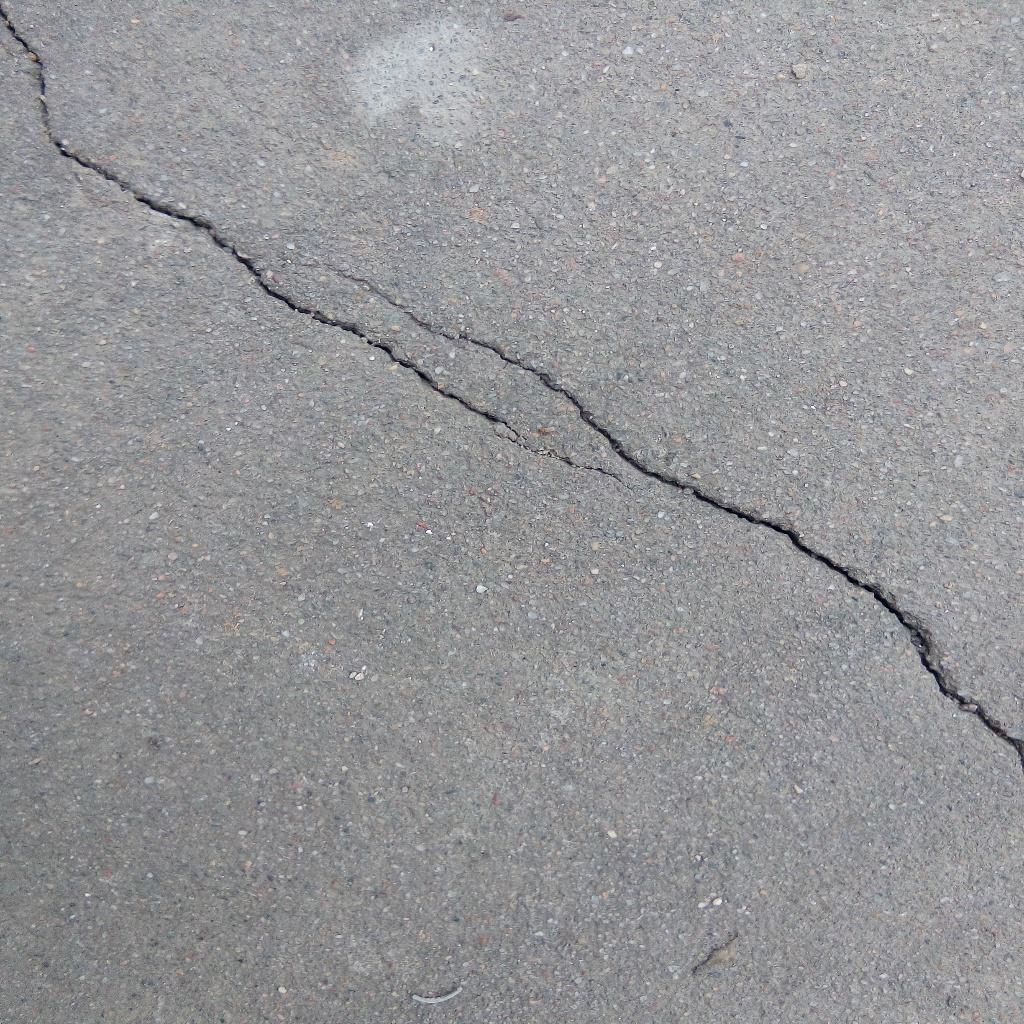Crack: (330, 264, 1024, 764), (1, 4, 616, 479)
